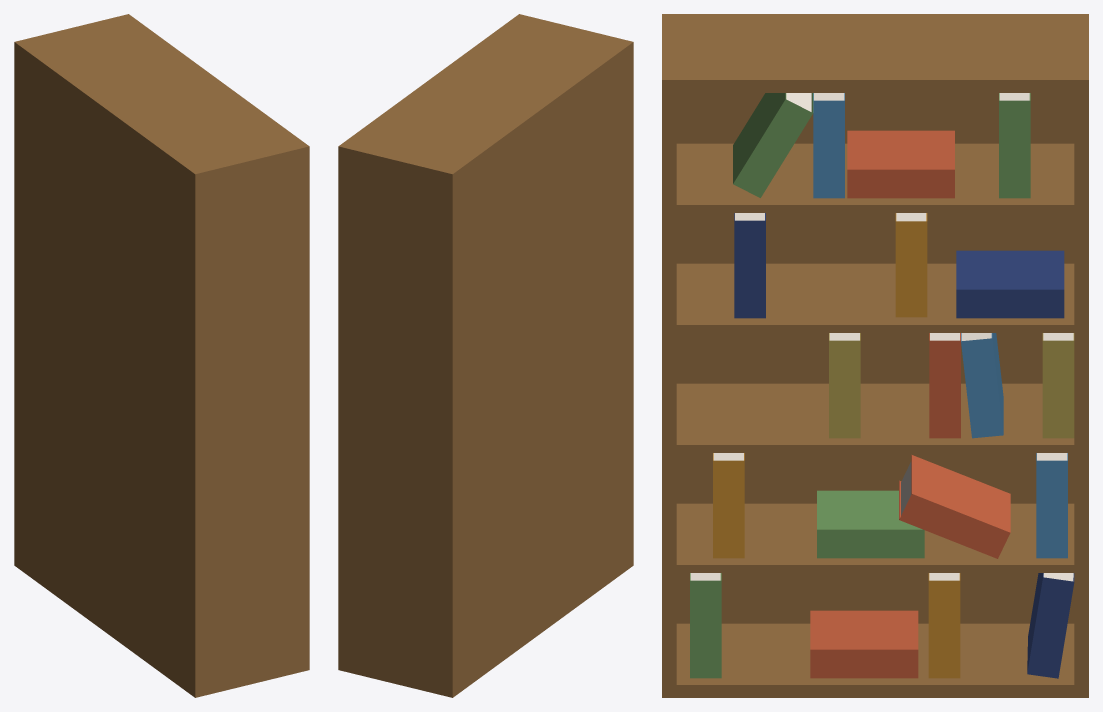
File: bookshelf_rest.glb
3 renders of one model, left to right at view 1: azimuth 30°, elevation 25°; view 2: azimuth 150°, elevation 25°; view 3: azimuth 270°, elevation 25°, orthographic. The views are drawn at different scales.
Parts seen in each view (by area): view 1: book.025; view 2: book.025; view 3: book.025.
Boxes of the visible parts, left/top/right/bottom form: book.025: left=14, top=14, right=309, bottom=697; book.025: left=338, top=14, right=633, bottom=697; book.025: left=662, top=14, right=1088, bottom=697.
Bounding box in the file's own units: 2 × 8.75 × 5.48.
